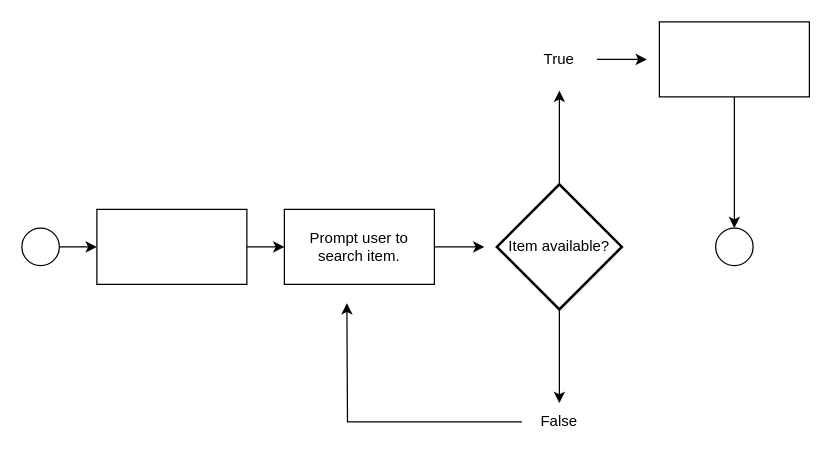
This 831x463 diagram has some shape labels left out. Here are the shapes that lost their labels. From the top down, the centre of each, then its label:
(733,59): Notify user that item is available.
(171,246): Welcome user.
